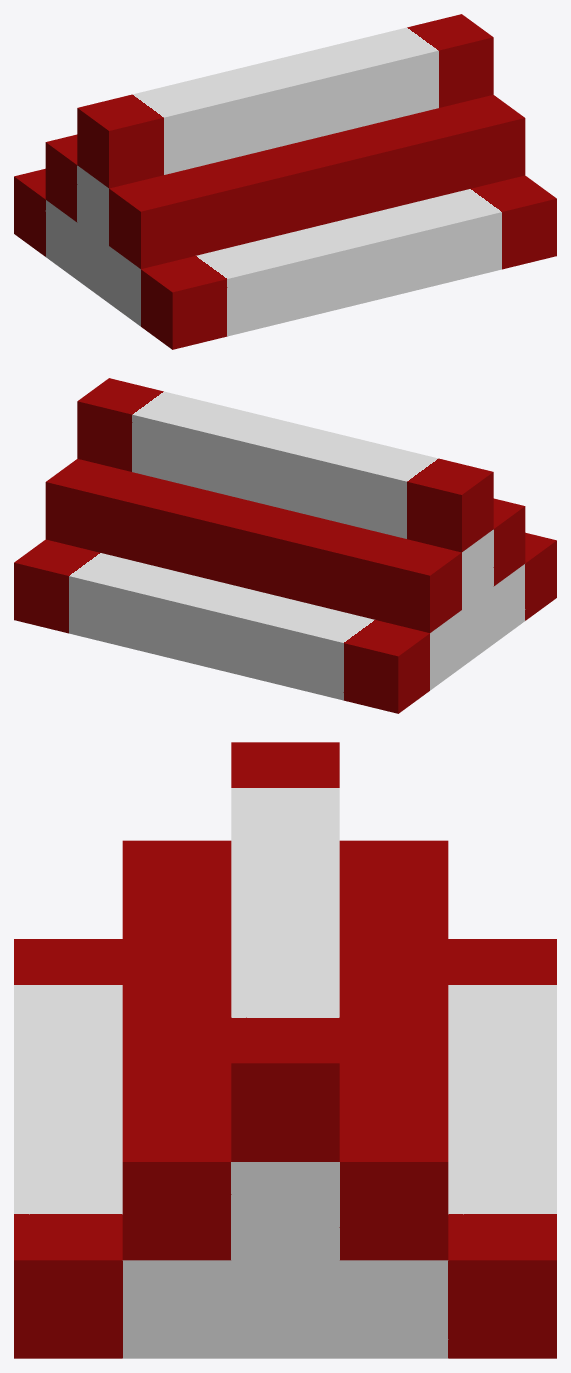
3 views of the same model, one above another, from view 1: azimuth 30°, elevation 25°; view 2: azimuth 150°, elevation 25°; view 3: azimuth 270°, elevation 25° (orthographic). The views are drawn at different scales.
Visible parts, largest first — view 1: Matrix_3; view 2: Matrix_3; view 3: Matrix_3.
Part boxes in pixels (<box>): Matrix_3: <box>14,14,556,349</box>; Matrix_3: <box>14,378,556,713</box>; Matrix_3: <box>14,742,556,1358</box>.
Size of the model in its own units: 7 by 3 by 5.
Materials: 1 (1 with a texture image).
